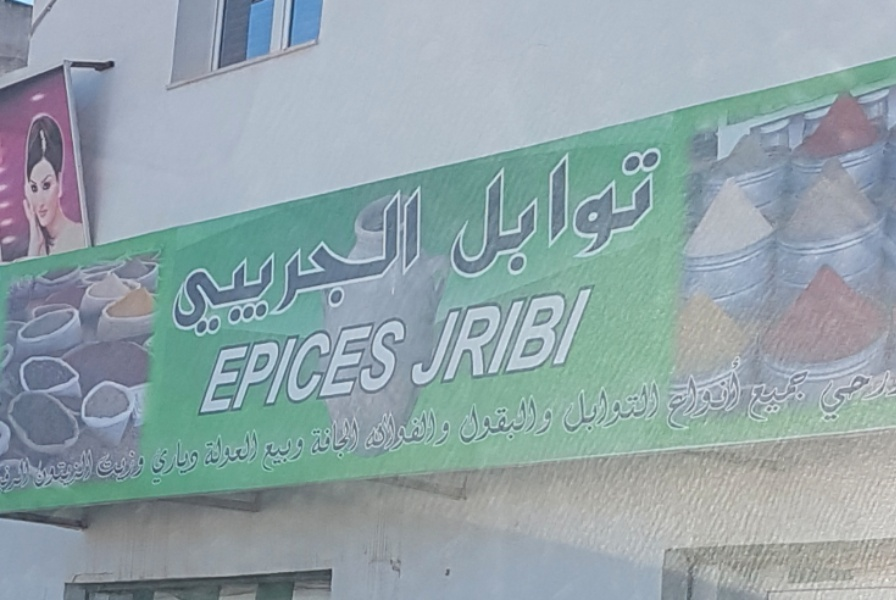text: (177, 182, 192, 344), (193, 182, 208, 344), (209, 182, 224, 344), (225, 182, 240, 344), (241, 182, 256, 344), (257, 182, 272, 344), (273, 182, 288, 344), (289, 182, 304, 344), (305, 182, 320, 344), (321, 182, 336, 344), (337, 182, 352, 344), (353, 182, 368, 344), (369, 182, 384, 344), (385, 182, 400, 344), (401, 182, 416, 344), (449, 135, 464, 292), (465, 135, 480, 292), (481, 135, 496, 292), (497, 135, 512, 292), (513, 135, 528, 292), (529, 135, 544, 292), (545, 135, 560, 292), (561, 135, 576, 292), (577, 135, 592, 292), (593, 135, 608, 292), (609, 135, 624, 292), (625, 135, 640, 292), (641, 135, 656, 292), (163, 182, 176, 344), (433, 280, 448, 390), (449, 280, 464, 390), (465, 280, 480, 390), (481, 280, 496, 390), (497, 280, 512, 390), (513, 280, 528, 390), (529, 280, 544, 390), (545, 280, 560, 390), (561, 280, 576, 390), (577, 280, 592, 390), (225, 311, 240, 416), (241, 311, 256, 416), (257, 311, 272, 416), (273, 311, 288, 416), (289, 311, 304, 416), (305, 311, 320, 416), (321, 311, 336, 416), (337, 311, 352, 416), (353, 311, 368, 416), (369, 311, 384, 416), (385, 311, 400, 416), (417, 182, 425, 344), (657, 135, 665, 292), (673, 354, 688, 432), (689, 354, 704, 432), (705, 354, 720, 432), (721, 354, 736, 432), (401, 311, 411, 416), (753, 368, 768, 424), (769, 368, 784, 424), (785, 368, 800, 424), (561, 380, 576, 435), (577, 380, 592, 435), (593, 380, 608, 435), (609, 380, 624, 435), (625, 380, 640, 435), (641, 380, 656, 435), (465, 392, 480, 446), (481, 392, 496, 446), (497, 392, 512, 446), (513, 392, 528, 446), (529, 392, 544, 446), (161, 433, 176, 487), (177, 433, 192, 487), (833, 369, 848, 421), (849, 369, 864, 421), (865, 369, 880, 421), (737, 354, 747, 432), (17, 448, 32, 498), (818, 369, 832, 421), (801, 368, 814, 424), (369, 407, 384, 454), (385, 407, 400, 454), (401, 407, 416, 454), (417, 407, 432, 454), (433, 407, 448, 454), (49, 446, 64, 493), (65, 446, 80, 493), (81, 446, 96, 493), (147, 433, 160, 487), (321, 416, 336, 460), (337, 416, 352, 460), (3, 448, 16, 498), (273, 430, 288, 472), (289, 430, 304, 472), (209, 430, 224, 472), (225, 430, 240, 472), (241, 430, 256, 472), (35, 446, 48, 493), (545, 392, 556, 446), (97, 448, 112, 487), (113, 448, 128, 487), (129, 448, 144, 487), (881, 369, 892, 421), (593, 280, 598, 390), (259, 430, 272, 472), (193, 433, 203, 487), (219, 311, 224, 416), (309, 416, 320, 460), (353, 416, 364, 460), (666, 354, 672, 432), (428, 280, 432, 390), (745, 368, 752, 424), (458, 392, 464, 446), (534, 408, 544, 436), (545, 408, 554, 436), (657, 380, 661, 435), (305, 430, 310, 472), (203, 430, 208, 472), (449, 407, 453, 454), (447, 135, 448, 292), (365, 407, 368, 454), (257, 430, 260, 472), (33, 448, 35, 498), (559, 380, 560, 435), (145, 448, 146, 487)
